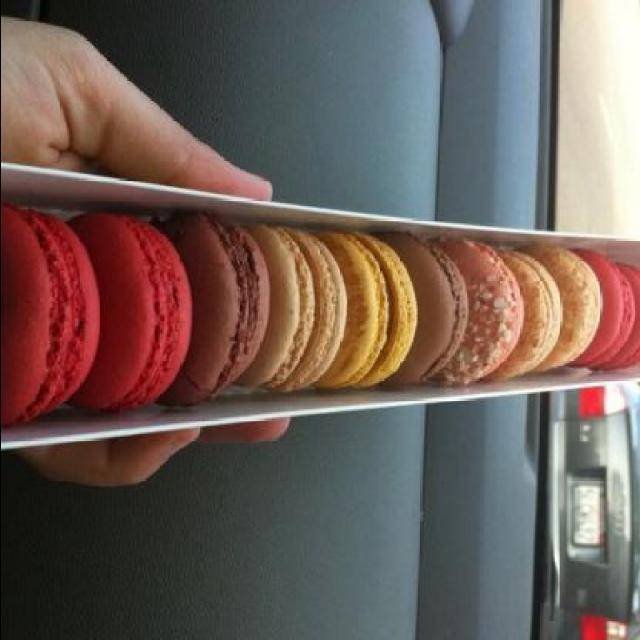Macaron: (1, 206, 639, 429)
